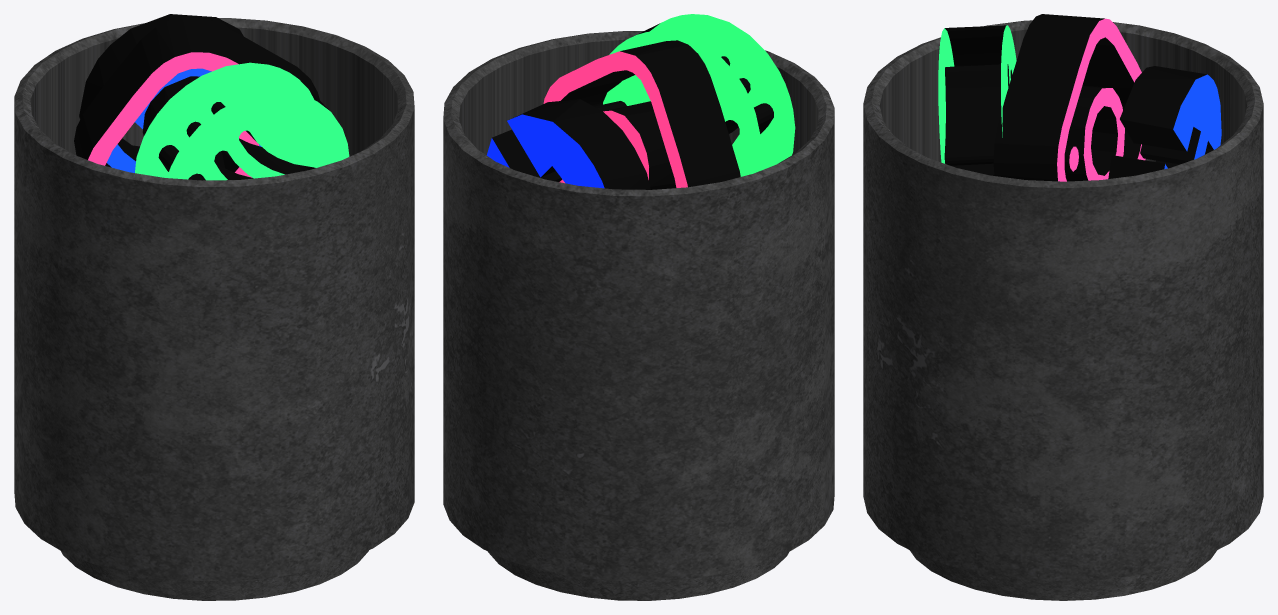
Rendered from bin-2.glb.
3 views of the same model, side by side, from view 1: azimuth 30°, elevation 25°; view 2: azimuth 150°, elevation 25°; view 3: azimuth 270°, elevation 25° (orthographic). The views are drawn at different scales.
Parts seen in each view (by area): view 1: Cylinder, Curve, Curve.001, Curve.002; view 2: Cylinder, Curve.001, Curve, Curve.002; view 3: Cylinder, Curve.001, Curve, Curve.002.
Boxes of the visible parts, x1=… form: Cylinder: x1=14, y1=18, x2=414, y2=600; Curve: x1=135, y1=62, x2=349, y2=180; Curve.001: x1=74, y1=17, x2=319, y2=180; Curve.002: x1=79, y1=14, x2=261, y2=172; Cylinder: x1=443, y1=31, x2=834, y2=600; Curve.001: x1=543, y1=40, x2=740, y2=189; Curve: x1=603, y1=14, x2=795, y2=176; Curve.002: x1=486, y1=99, x2=650, y2=189; Cylinder: x1=863, y1=20, x2=1263, y2=600; Curve.001: x1=993, y1=14, x2=1145, y2=181; Curve: x1=938, y1=25, x2=1016, y2=175; Curve.002: x1=1108, y1=66, x2=1221, y2=178.
Size of the model in its own units: 2 by 2.79 by 2.
Materials: 7 (1 with a texture image).
